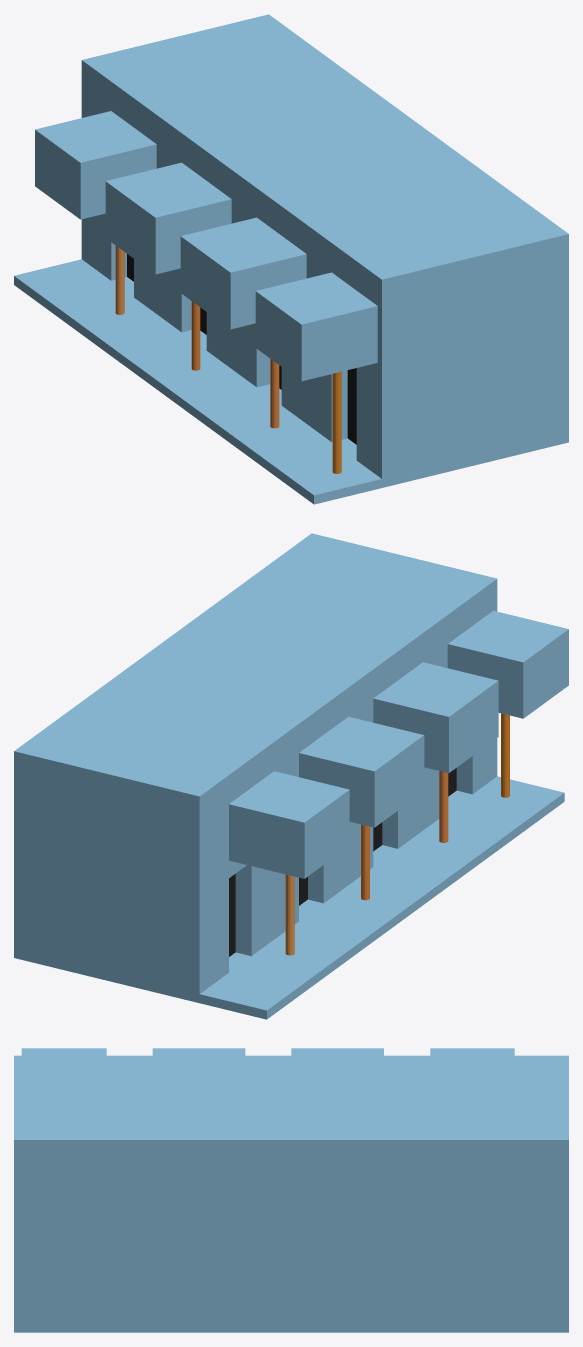
Rendered from Street_Med.fbx.
3 renders of one model, top to bottom at view 1: azimuth 30°, elevation 25°; view 2: azimuth 150°, elevation 25°; view 3: azimuth 270°, elevation 25°, orthographic. The views are drawn at different scales.
Visible parts, largest first — view 1: Cube.011, Cylinder.009, Cylinder.007, Cylinder.006, Cylinder.008; view 2: Cube.011, Cylinder.006, Cylinder.009, Cylinder.008, Cylinder.007; view 3: Cube.011.
Part boxes in pixels (x1,y1,x2,y2): Cube.011: (14,14,568,504); Cylinder.009: (332,371,341,473); Cylinder.007: (191,301,200,370); Cylinder.006: (115,246,124,314); Cylinder.008: (270,359,279,428); Cube.011: (14,533,568,1019); Cylinder.006: (285,874,294,955); Cylinder.009: (501,713,509,797); Cylinder.008: (439,771,448,842); Cylinder.007: (361,824,369,900); Cube.011: (14,1048,568,1332).
Bounding box in the file's own units: 1422 × 1118 × 2807.
